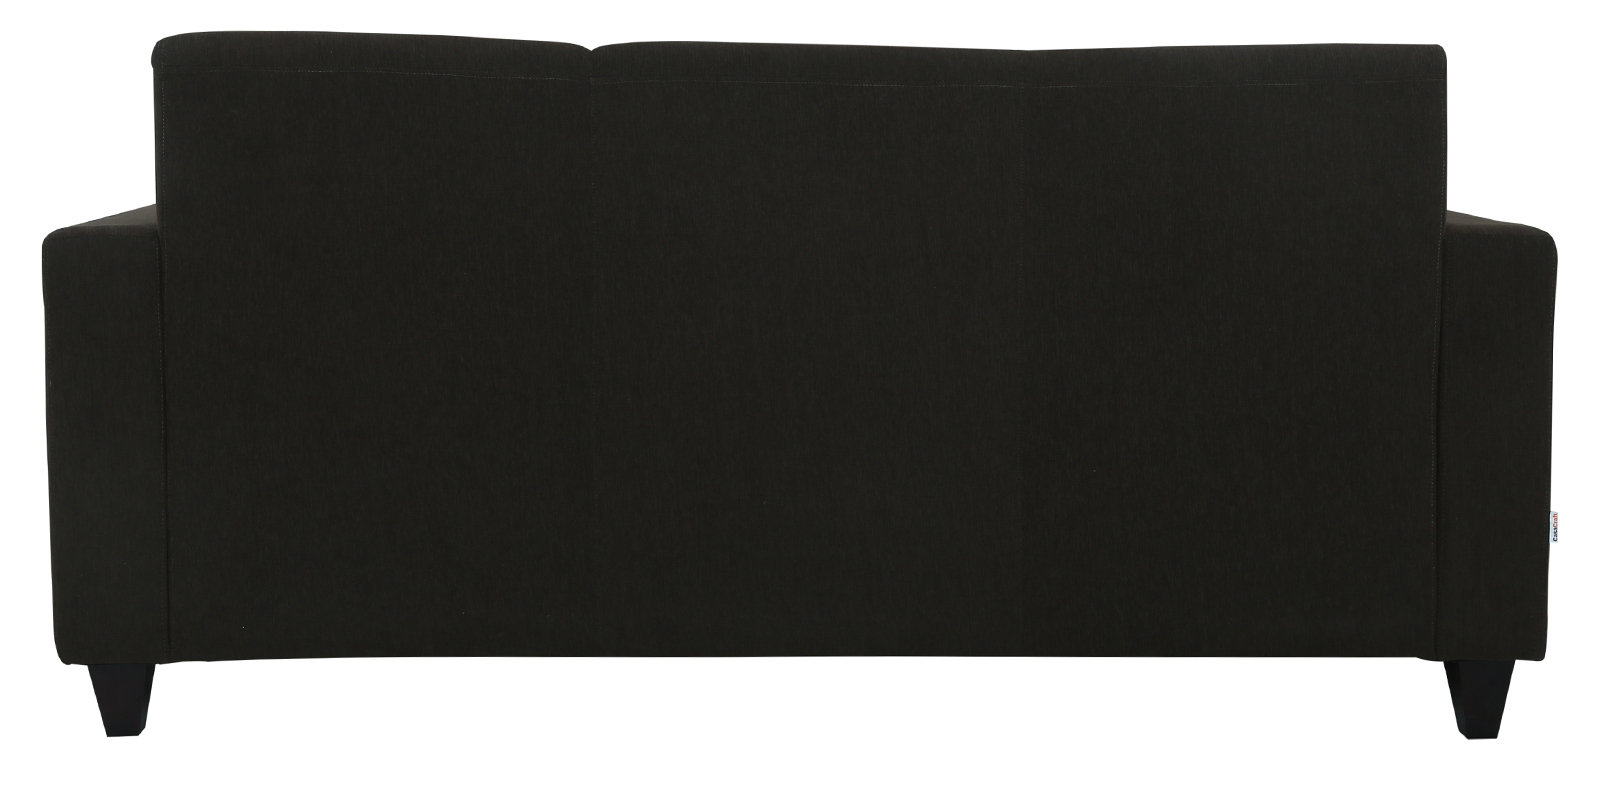Alba Three Seater Sofa in Chestnut Brown Colour by CasaCraft: (35, 24, 1564, 750)
